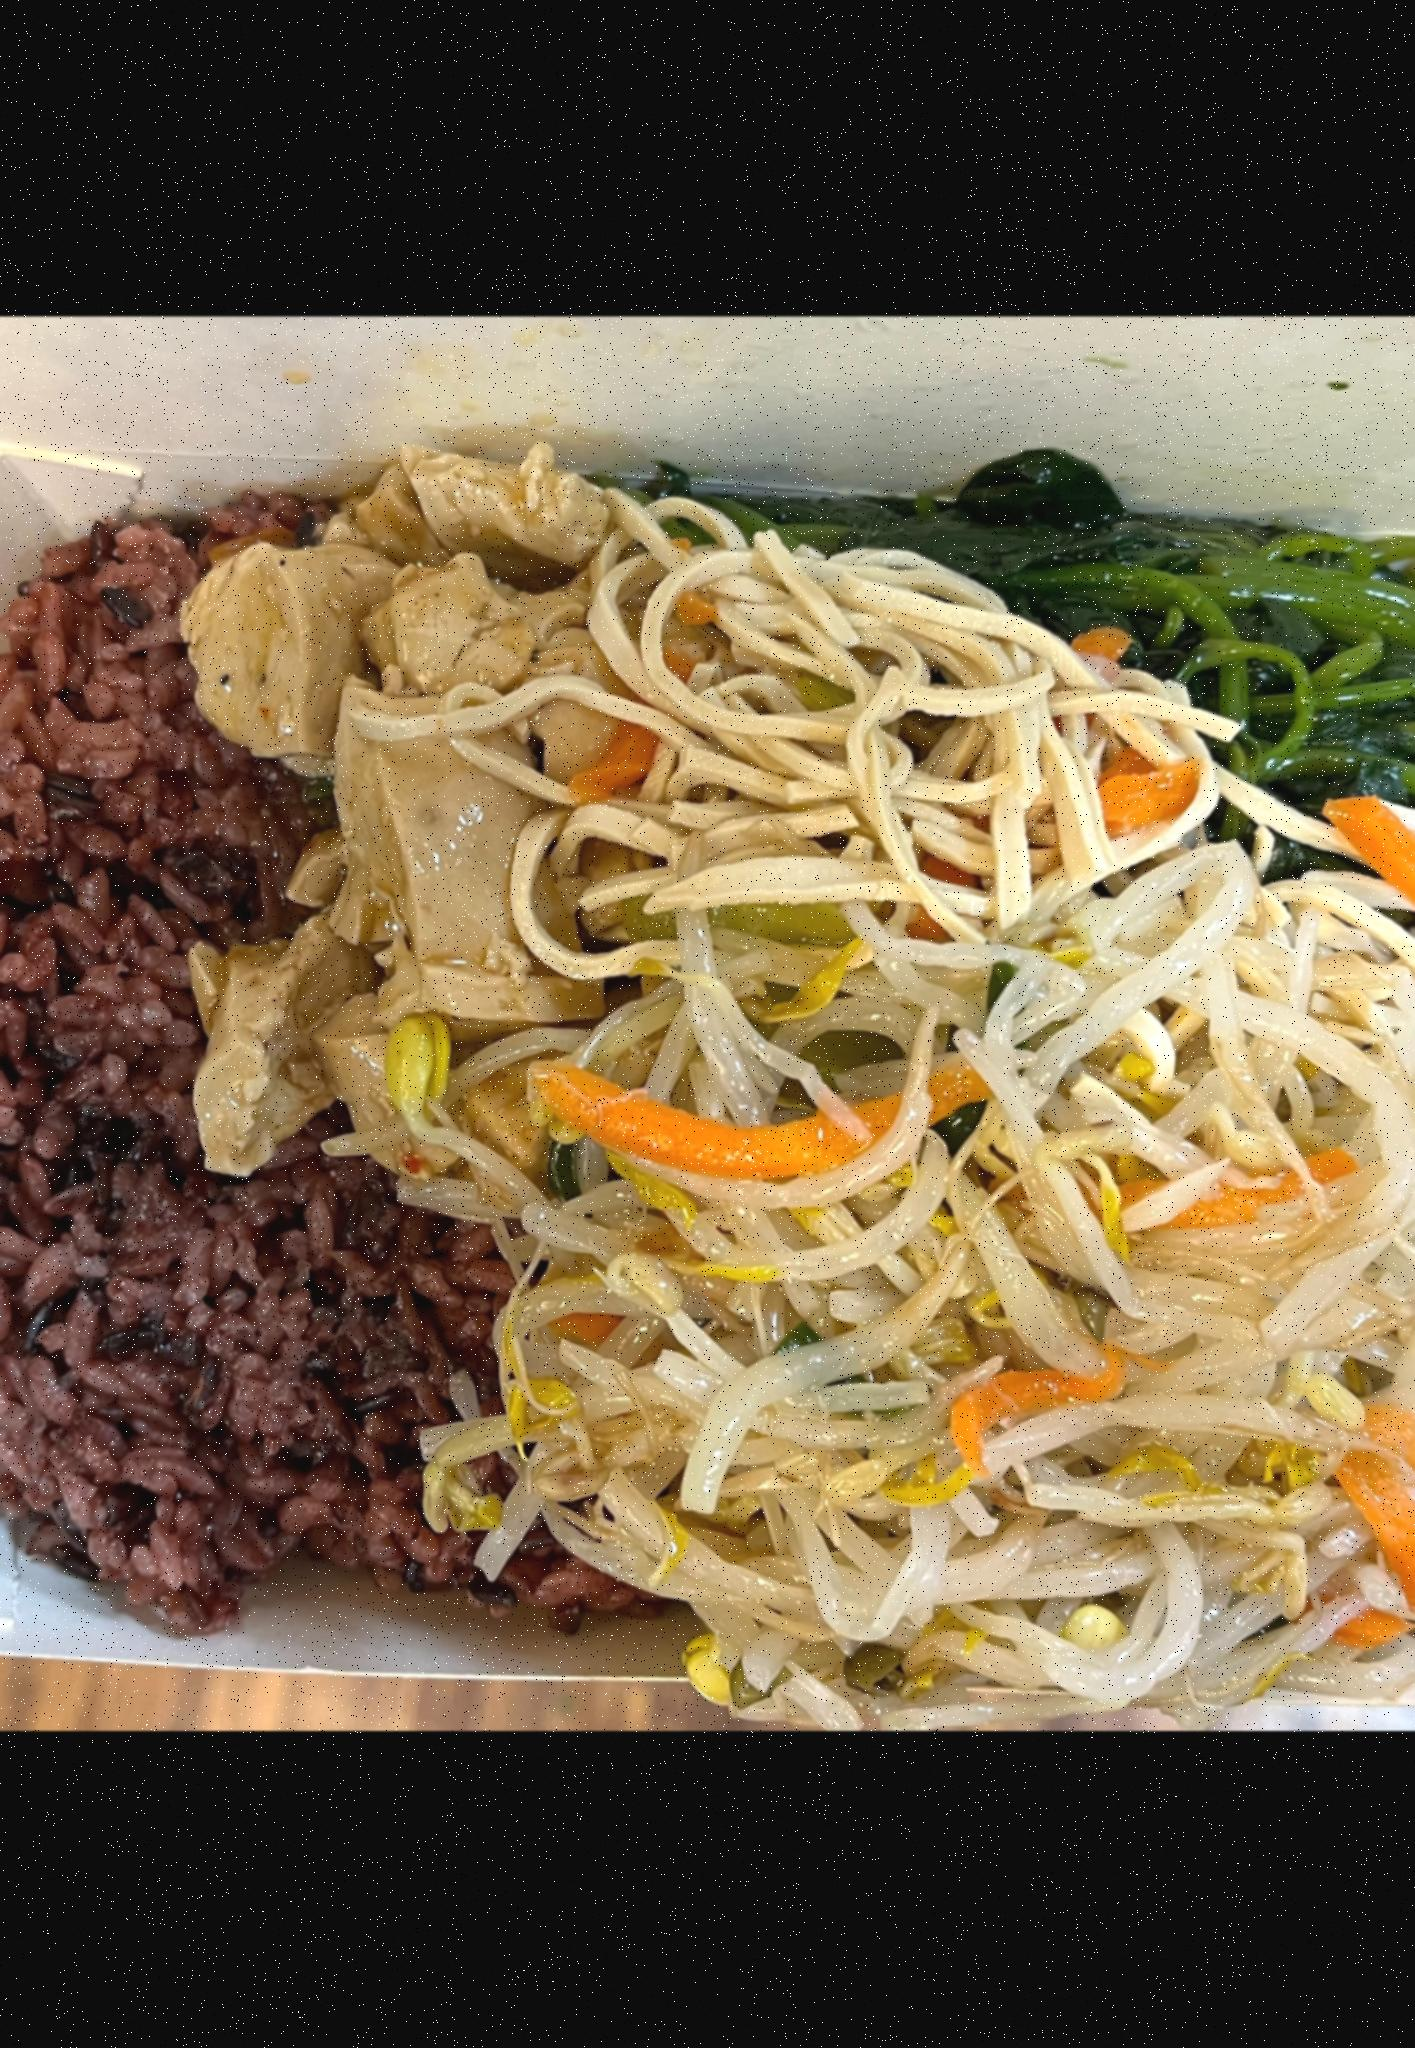big grilled chicken leg: (0, 386, 1415, 1723)
braised fish: (0, 472, 694, 1601)
braised fish fillet: (528, 506, 1415, 1695), (171, 430, 613, 1243), (743, 456, 1415, 850)
